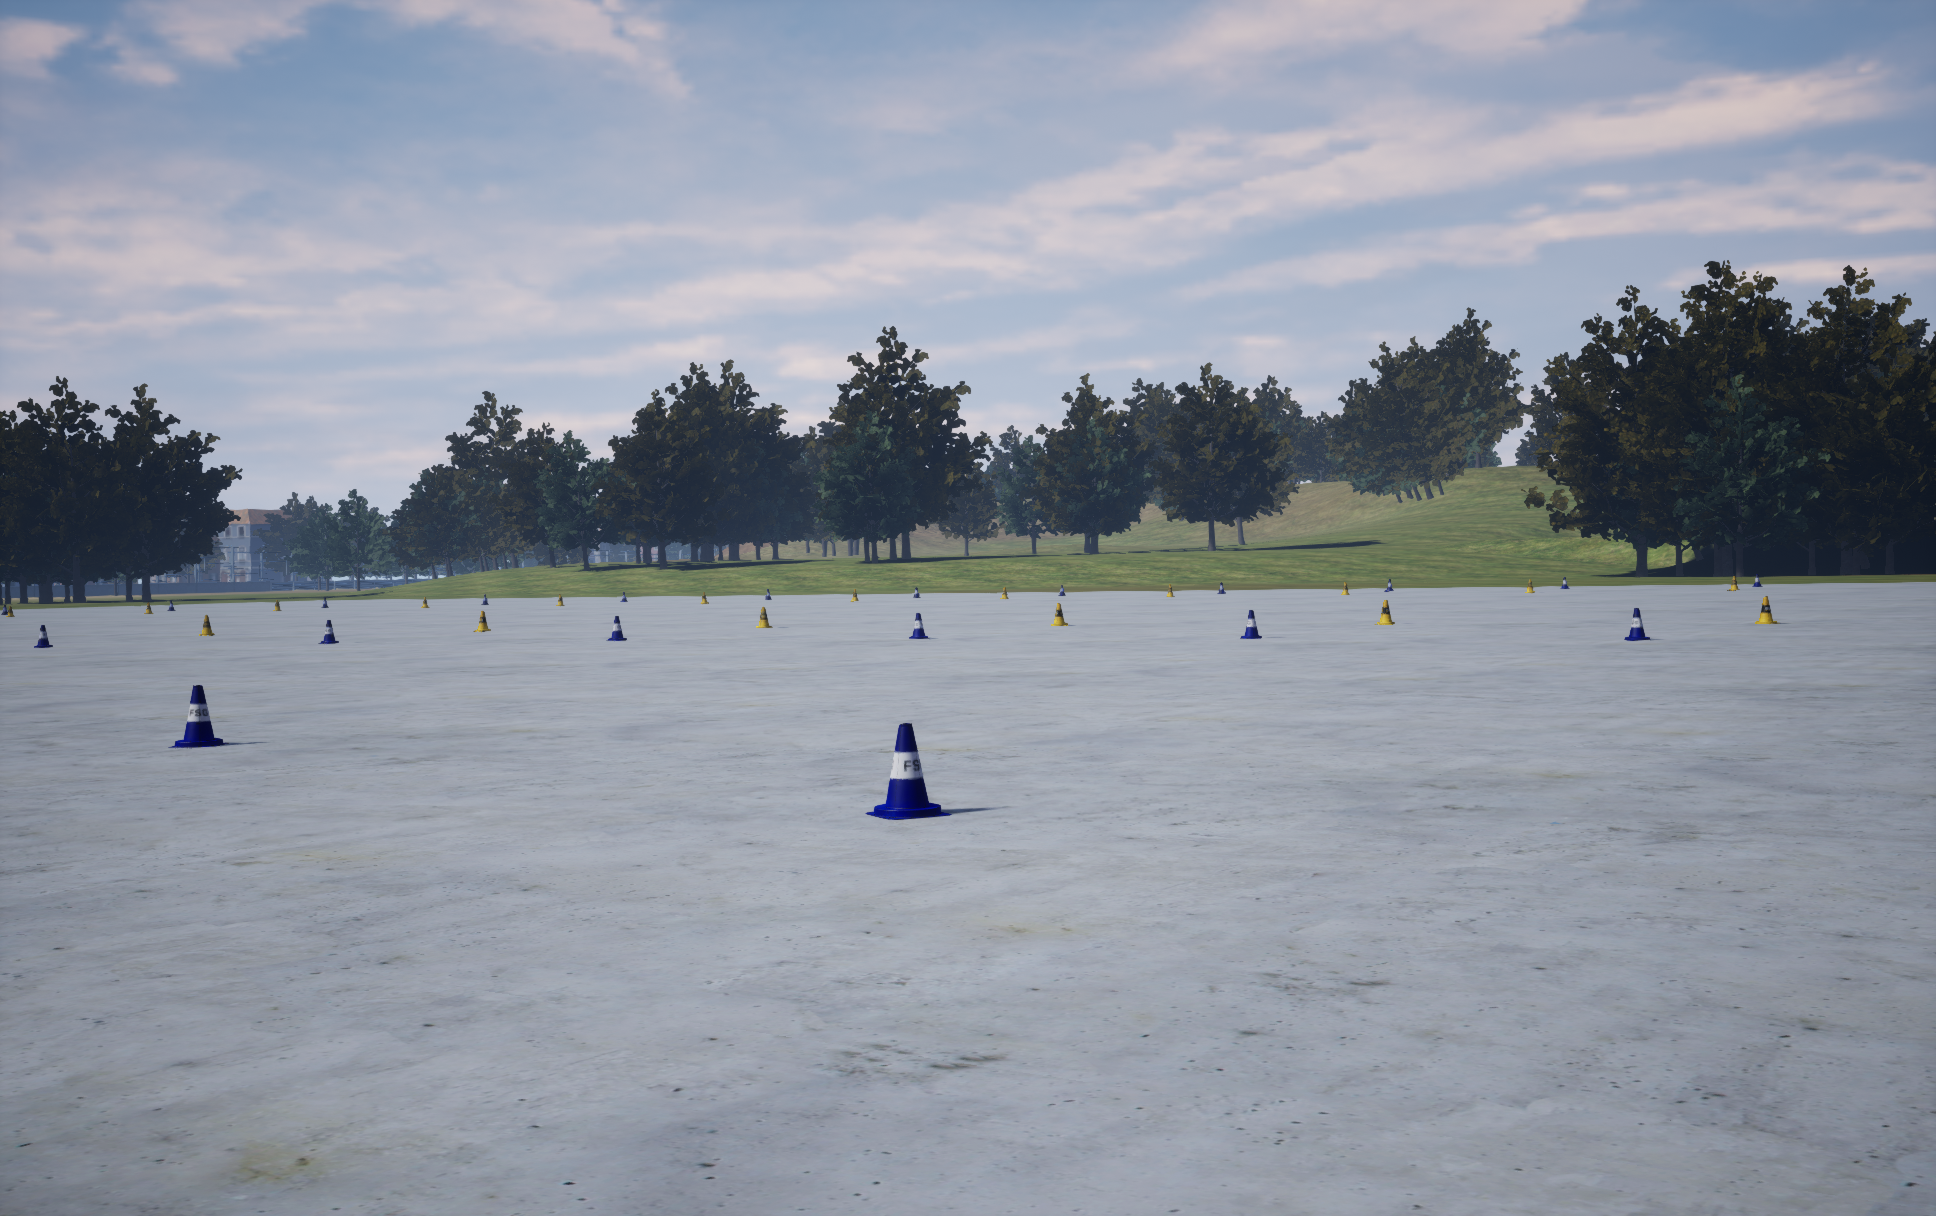blue: (1755, 595, 1779, 623), (1374, 600, 1394, 623), (1051, 602, 1067, 625), (473, 611, 490, 630), (756, 607, 772, 628), (199, 615, 214, 635)
yellow: (864, 723, 951, 820), (168, 685, 228, 747), (1624, 608, 1649, 640), (1240, 609, 1261, 637), (607, 616, 626, 640), (318, 621, 338, 643), (909, 614, 927, 637), (34, 625, 52, 647)
